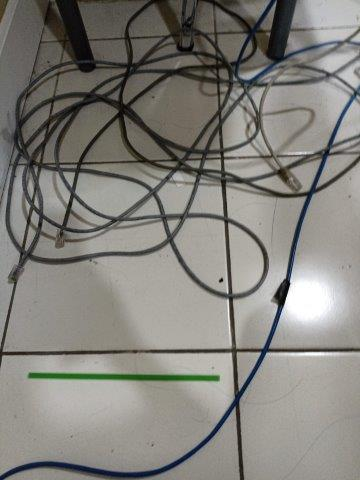sedotan: (28, 372, 220, 382)
